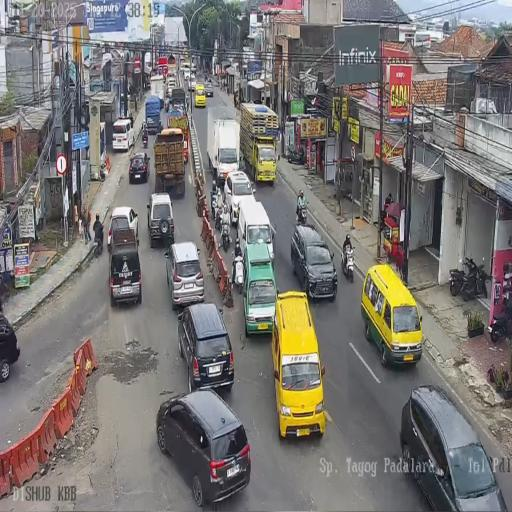car: (402, 386, 508, 510), (155, 388, 252, 508), (274, 292, 328, 439), (360, 262, 423, 368), (176, 298, 234, 394), (290, 222, 337, 300), (242, 242, 276, 332), (165, 242, 206, 312), (108, 242, 142, 306), (224, 172, 257, 229), (107, 206, 139, 252), (147, 192, 174, 246), (0, 314, 20, 382), (112, 117, 136, 152), (128, 152, 150, 184), (195, 83, 206, 108), (120, 90, 131, 110), (204, 80, 214, 97), (182, 67, 190, 82), (190, 77, 196, 92)
motorcycle: (450, 256, 486, 300), (488, 293, 511, 343), (341, 242, 354, 282), (286, 144, 306, 166), (220, 216, 231, 252), (210, 182, 219, 220), (296, 201, 308, 226), (142, 129, 148, 148), (165, 98, 169, 112)
truck: (239, 101, 278, 185), (207, 113, 239, 186), (153, 128, 186, 197), (169, 86, 187, 118), (150, 73, 165, 110), (167, 65, 177, 92), (190, 62, 196, 74)
